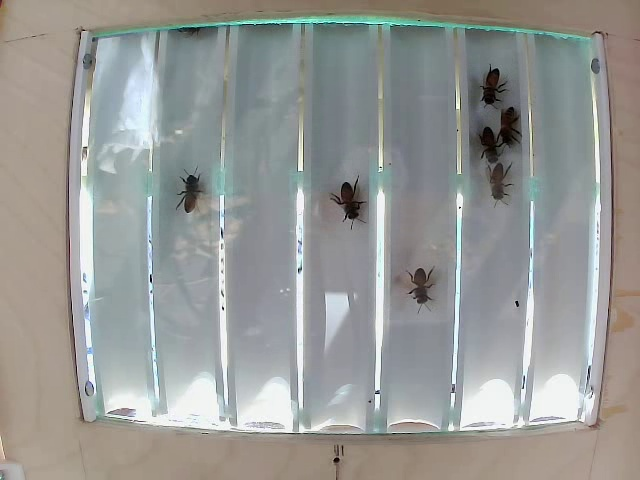bee: (394, 256, 443, 308), (172, 166, 210, 209), (486, 160, 517, 202), (334, 187, 365, 228), (479, 60, 512, 98), (477, 119, 496, 162), (504, 103, 526, 140)
